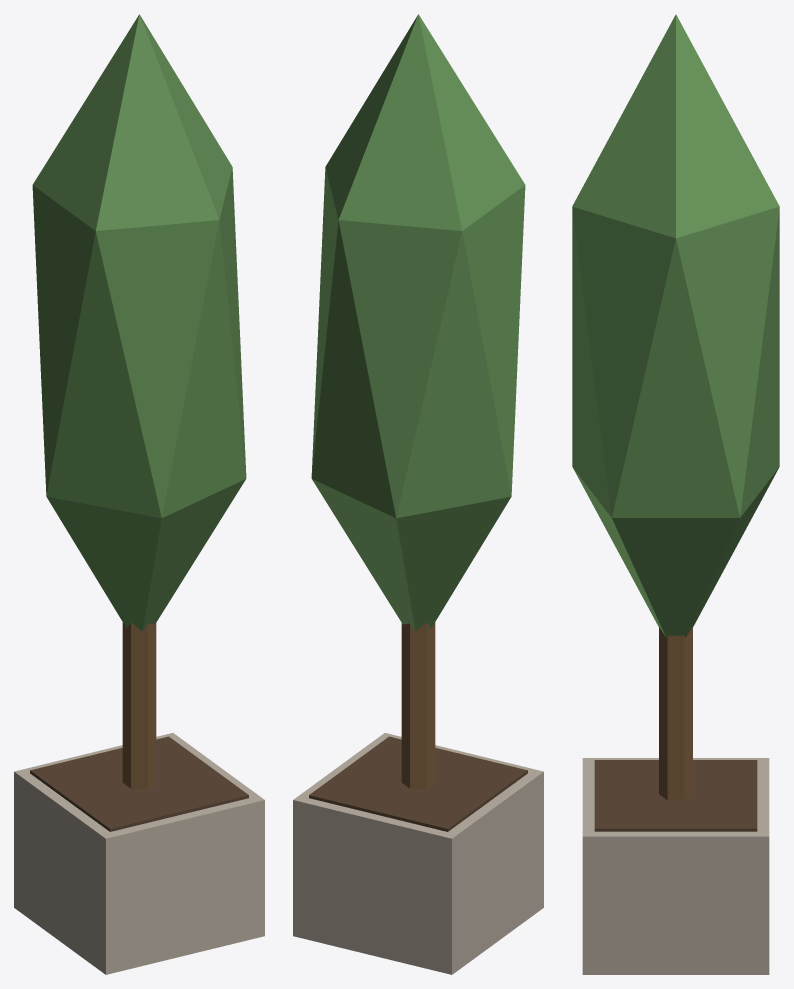
Rendered from objet_arbre_cypres.glb.
3 views of the same model, side by side, from view 1: azimuth 30°, elevation 25°; view 2: azimuth 150°, elevation 25°; view 3: azimuth 270°, elevation 25° (orthographic).
Parts seen in each view (by area): view 1: objet_arbre_cypres; view 2: objet_arbre_cypres; view 3: objet_arbre_cypres.
Boxes of the visible parts, x1,y1,x2,y2 form: objet_arbre_cypres: (14, 14, 264, 974); objet_arbre_cypres: (293, 14, 543, 974); objet_arbre_cypres: (572, 14, 779, 974).
Bounding box in the file's own units: 0.644 × 3 × 0.6125.
